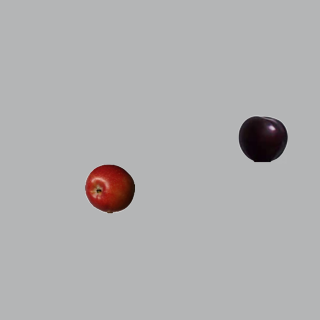Apple Braeburn: (84, 163, 134, 213)
Cherry Wax Black: (237, 113, 287, 163)
